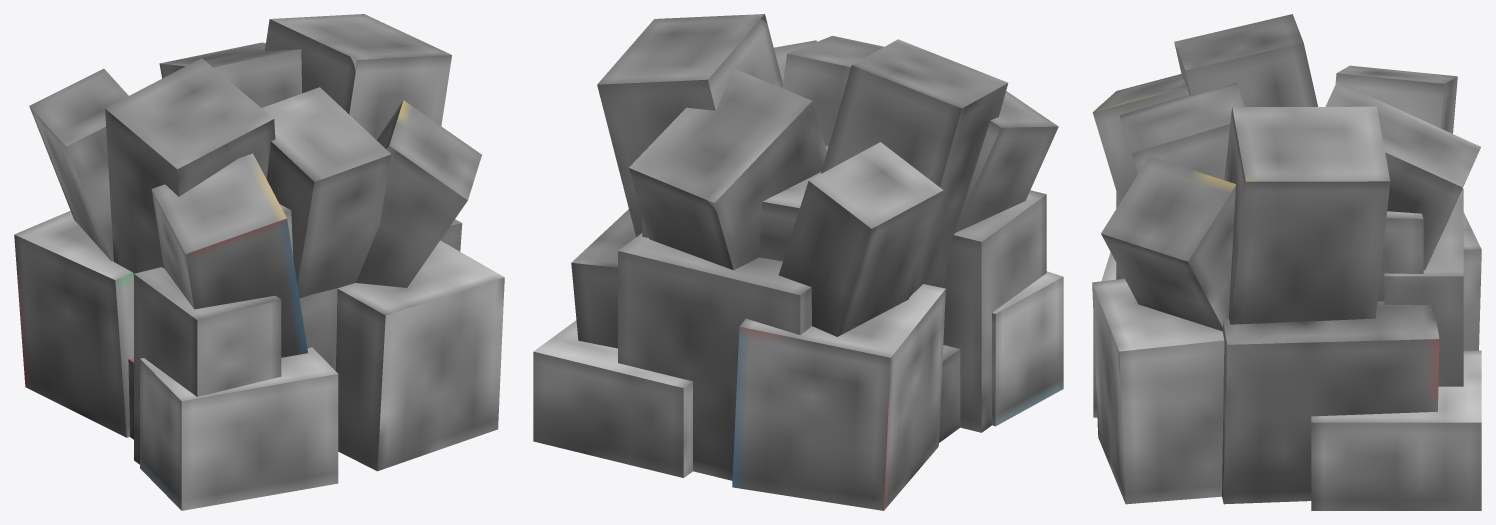
The model's file is SM_Rocks_01_a.fbx.
3 renders of one model, left to right at view 1: azimuth 30°, elevation 25°; view 2: azimuth 150°, elevation 25°; view 3: azimuth 270°, elevation 25°, orthographic. The views are drawn at different scales.
Parts seen in each view (by area): view 1: Stone; view 2: Stone; view 3: Stone.
Part boxes in pixels (x1,y1,x2,y2): Stone: (14, 14, 504, 510); Stone: (533, 14, 1063, 510); Stone: (1092, 14, 1481, 510).
Bounding box in the file's own units: 100 × 102 × 99.96.
1 material, 1 textured.
